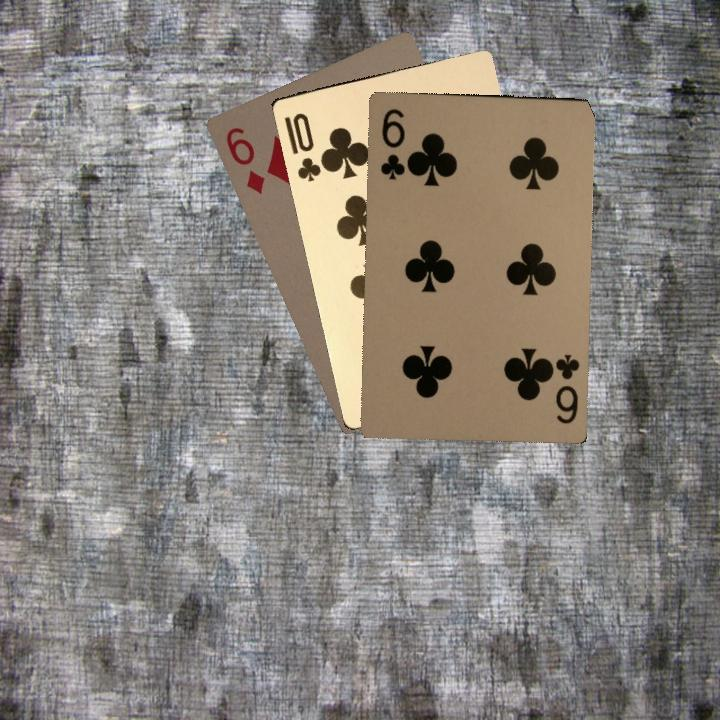10c: (280, 108, 330, 184)
6c: (376, 105, 407, 182), (551, 350, 582, 427)
6d: (222, 123, 268, 197)
